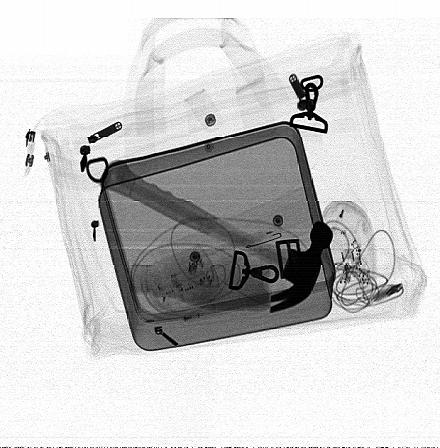Hammer: (99, 159, 334, 314)
